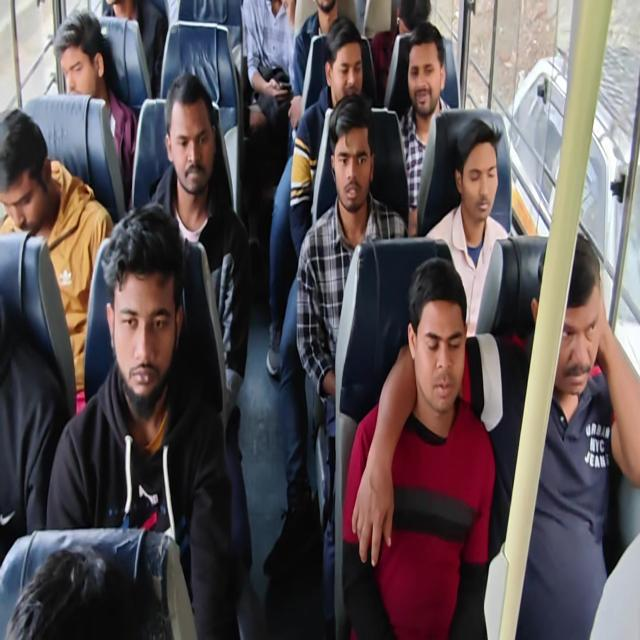person: (7, 548, 188, 640), (533, 238, 604, 395), (108, 242, 172, 402), (0, 116, 69, 232), (416, 276, 462, 411), (54, 11, 112, 102), (326, 110, 374, 216), (166, 97, 214, 199), (458, 112, 499, 230), (404, 34, 443, 118), (388, 0, 438, 52), (329, 25, 360, 106), (304, 0, 342, 25)
